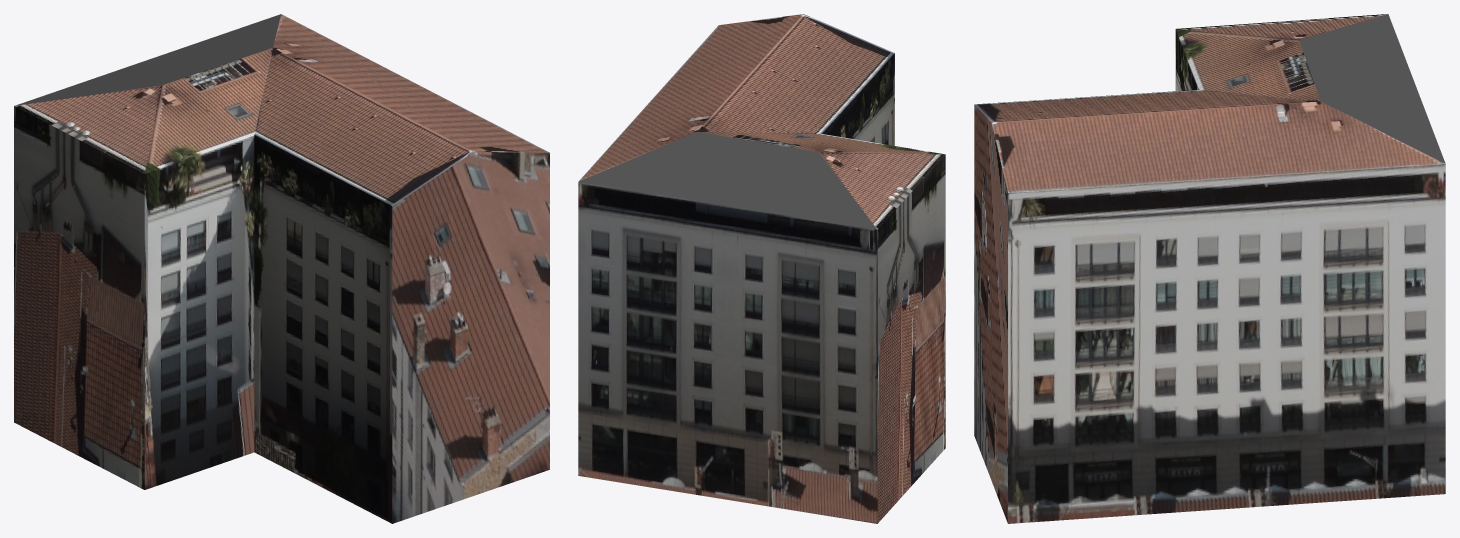
3 renders of one model, left to right at view 1: azimuth 30°, elevation 25°; view 2: azimuth 150°, elevation 25°; view 3: azimuth 270°, elevation 25°, orthographic. The views are drawn at different scales.
Visible parts, largest first — view 1: Z_UP; view 2: Z_UP; view 3: Z_UP.
Boxes of the visible parts, <box> form: Z_UP: <box>14,14,549,523</box>; Z_UP: <box>578,14,945,523</box>; Z_UP: <box>974,14,1445,523</box>.
Size of the model in its own units: 25.98 by 24.16 by 28.78.
2 materials, 1 textured.
